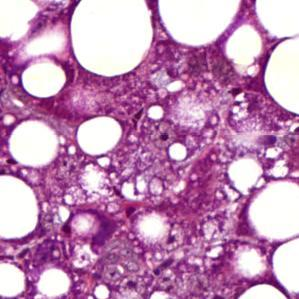steatosis: (8, 118, 60, 166), (73, 117, 129, 156), (20, 64, 74, 97)
